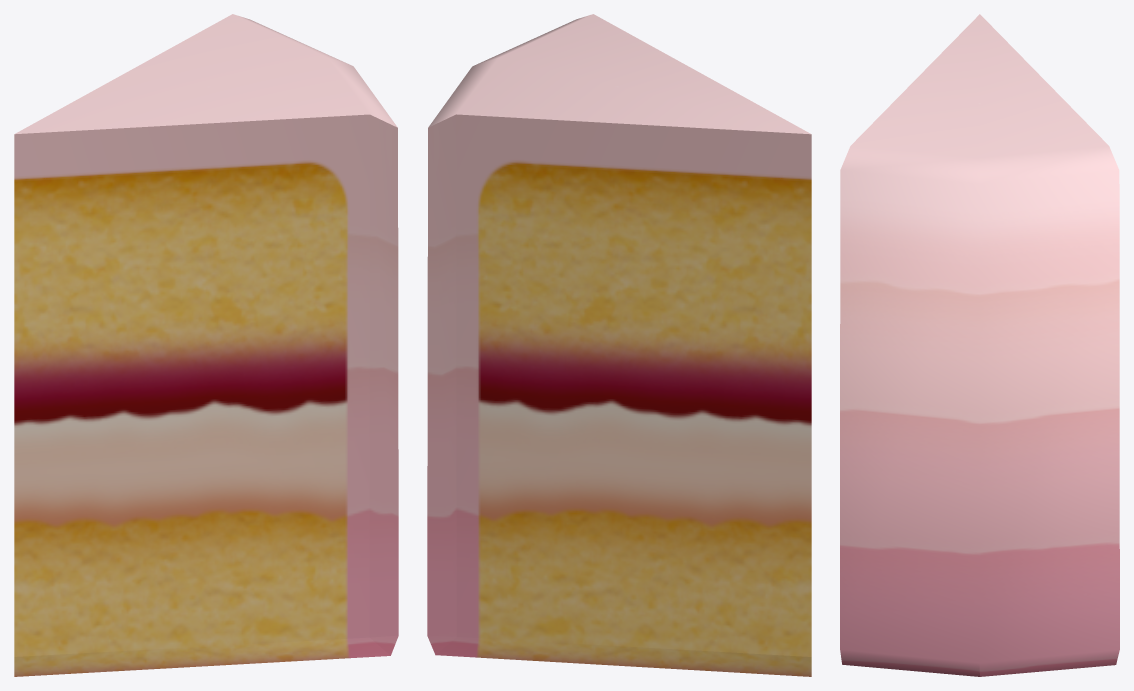
File: Wedding_01_Slice_Top.fbx
The picture shows the model from 3 angles, left to right: view 1: azimuth 30°, elevation 25°; view 2: azimuth 150°, elevation 25°; view 3: azimuth 270°, elevation 25°; orthographic projection. The views are drawn at different scales.
Visible parts, largest first — view 1: Wedding_01_Slice_Top; view 2: Wedding_01_Slice_Top; view 3: Wedding_01_Slice_Top.
Boxes of the visible parts, left/top/right/bottom form: Wedding_01_Slice_Top: left=14, top=14, right=398, bottom=676; Wedding_01_Slice_Top: left=427, top=14, right=811, bottom=676; Wedding_01_Slice_Top: left=840, top=14, right=1119, bottom=676.
Bounding box in the file's own units: 30.02 × 45.87 × 22.74.
